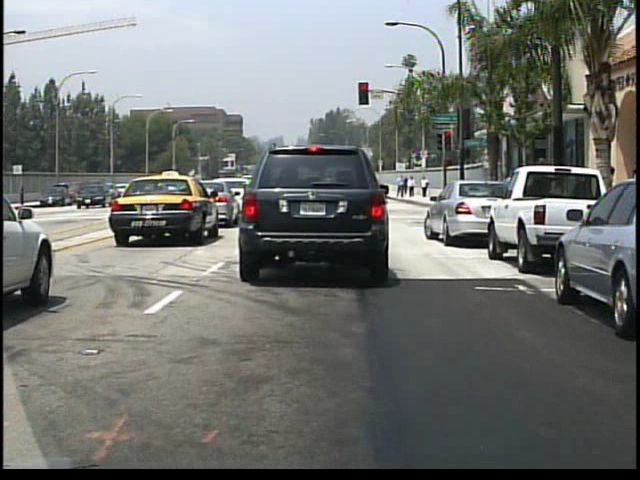person: (420, 176, 431, 200), (398, 175, 407, 199), (409, 176, 417, 199)
